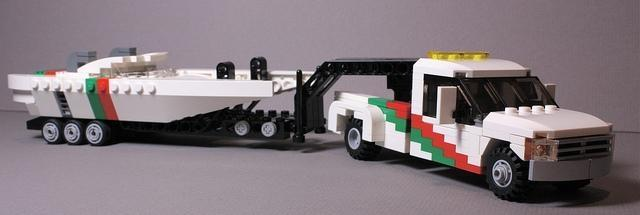truck: (7, 48, 617, 200)
